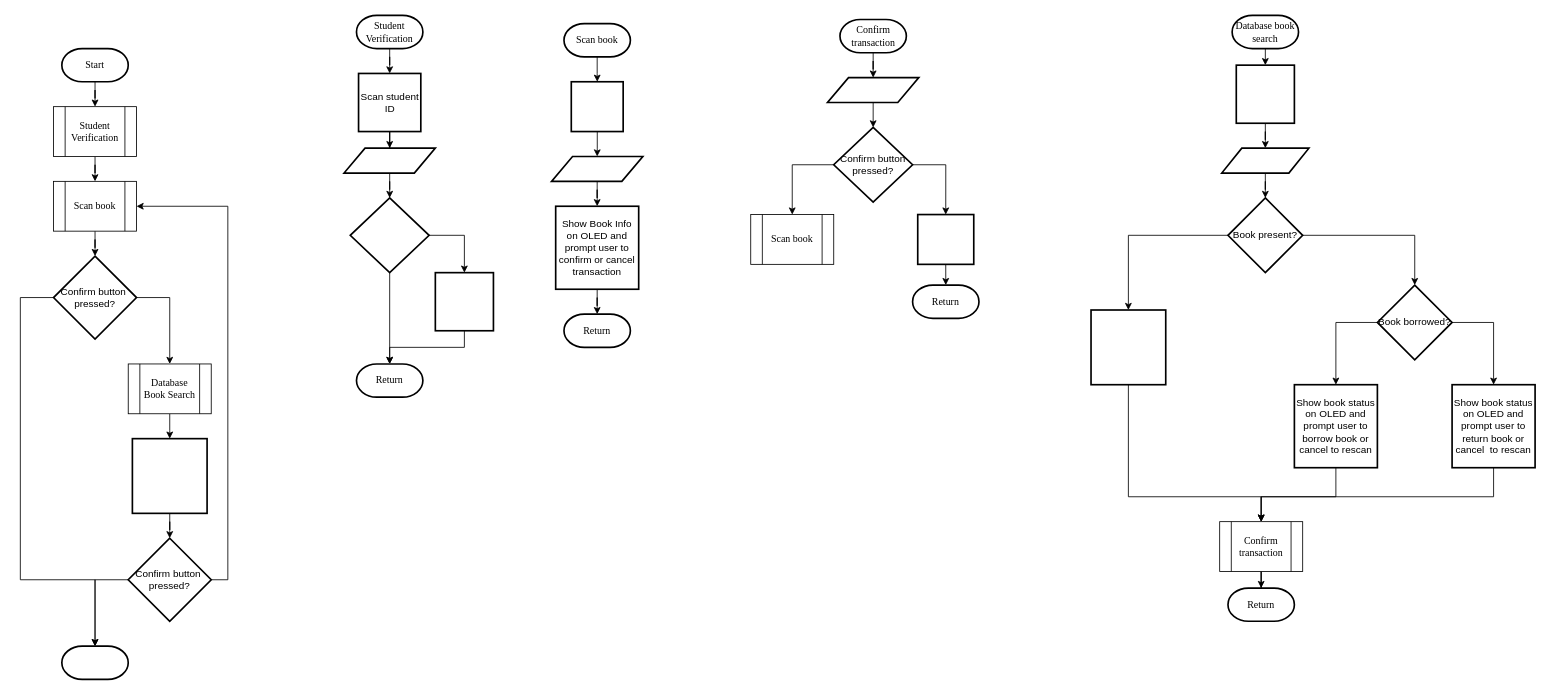
Some shapes in this 1550 by 694 pixel diagram are drawn without their labels. Each missing label, with the centre of its shape:
Add Student to the database: the point at 464,301
Book Details: the point at 596,168
Book status: the point at 1265,160
Button input: the point at 872,89
End: the point at 95,662
Prompt user to scan next or end transaction: the point at 169,475
Scan QR from book: the point at 597,106
Search book in database: the point at 1265,94
Show book status on OLED and prompt user to add book or cancel to rescan: the point at 1128,347
student in the database?: the point at 389,235
Student info: the point at 389,160
Update Database: the point at 945,239
